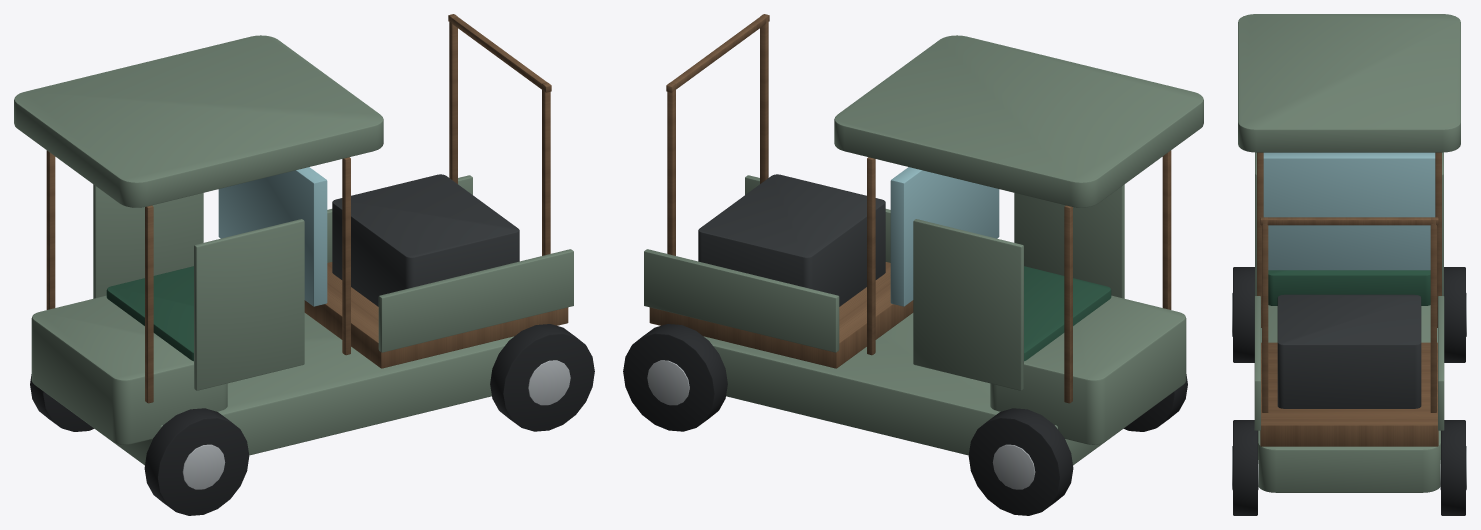
Rendered from utility_cart_high_end.glb.
The picture shows the model from 3 angles, left to right: view 1: azimuth 30°, elevation 25°; view 2: azimuth 150°, elevation 25°; view 3: azimuth 270°, elevation 25°; orthographic projection. The views are drawn at different scales.
Parts seen in each view (by area): view 1: Canopy_Roof, ServiceCart_Chassis, ServiceCart_Hood, ServiceCart_CabDoor_L, ServiceCart_Toolbox, ServiceCart_BedSide_L, ServiceCart_CabDoor_R, ServiceCart_Windshield, ServiceWheel_Front_L_Tire, ServiceWheel_Rear_L_Tire, ServiceCart_BedFloor, ServiceCart_Seat (+9 smaller); view 2: Canopy_Roof, ServiceCart_Chassis, ServiceCart_Hood, ServiceCart_CabDoor_R, ServiceCart_Toolbox, ServiceCart_BedSide_R, ServiceCart_CabDoor_L, ServiceCart_Windshield, ServiceWheel_Front_R_Tire, ServiceWheel_Rear_R_Tire, ServiceCart_BedFloor, ServiceCart_Seat (+9 smaller); view 3: Canopy_Roof, ServiceCart_Windshield, ServiceCart_Toolbox, ServiceCart_Chassis, ServiceCart_BedFloor, ServiceCart_Seat, ServiceWheel_Rear_L_Tire, ServiceWheel_Rear_R_Tire, ServiceWheel_Front_L_Tire, ServiceWheel_Front_R_Tire, ServiceCart_SafetyRackTop, ServiceCart_SafetyRackPost_L (+7 smaller).
Boxes of the visible parts, x1,y1,x2,y2 form: Canopy_Roof: (14, 35, 383, 207); ServiceCart_Chassis: (113, 313, 513, 465); ServiceCart_Hood: (31, 295, 227, 444); ServiceCart_CabDoor_L: (194, 219, 304, 390); ServiceCart_Toolbox: (332, 174, 519, 306); ServiceCart_BedSide_L: (378, 249, 573, 352); ServiceCart_CabDoor_R: (93, 184, 203, 298); ServiceCart_Windshield: (218, 167, 327, 306); ServiceWheel_Front_L_Tire: (144, 408, 249, 515); ServiceWheel_Rear_L_Tire: (490, 324, 594, 431); ServiceCart_BedFloor: (304, 262, 568, 368); ServiceCart_Seat: (106, 266, 193, 361); Canopy_Roof: (834, 35, 1203, 207); ServiceCart_Chassis: (704, 313, 1104, 465); ServiceCart_Hood: (990, 295, 1186, 444); ServiceCart_CabDoor_R: (913, 219, 1023, 390); ServiceCart_Toolbox: (698, 174, 885, 306); ServiceCart_BedSide_R: (644, 249, 839, 352); ServiceCart_CabDoor_L: (1014, 184, 1124, 298); ServiceCart_Windshield: (890, 167, 999, 306); ServiceWheel_Front_R_Tire: (968, 408, 1073, 515); ServiceWheel_Rear_R_Tire: (623, 324, 727, 431); ServiceCart_BedFloor: (649, 262, 913, 368); ServiceCart_Seat: (1024, 266, 1111, 361); Canopy_Roof: (1238, 14, 1460, 152); ServiceCart_Windshield: (1263, 152, 1435, 270); ServiceCart_Toolbox: (1277, 294, 1421, 408); ServiceCart_Chassis: (1258, 305, 1440, 492); ServiceCart_BedFloor: (1260, 342, 1438, 446); ServiceCart_Seat: (1268, 270, 1430, 305); ServiceWheel_Rear_L_Tire: (1233, 420, 1257, 515); ServiceWheel_Rear_R_Tire: (1441, 420, 1465, 515); ServiceWheel_Front_L_Tire: (1233, 267, 1254, 362); ServiceWheel_Front_R_Tire: (1444, 267, 1465, 362); ServiceCart_SafetyRackTop: (1260, 217, 1438, 225); ServiceCart_SafetyRackPost_L: (1262, 217, 1268, 412).
Size of what is drawn, in the model's own units: 2.65 by 1.88 by 1.28.
7 materials, 1 textured.
